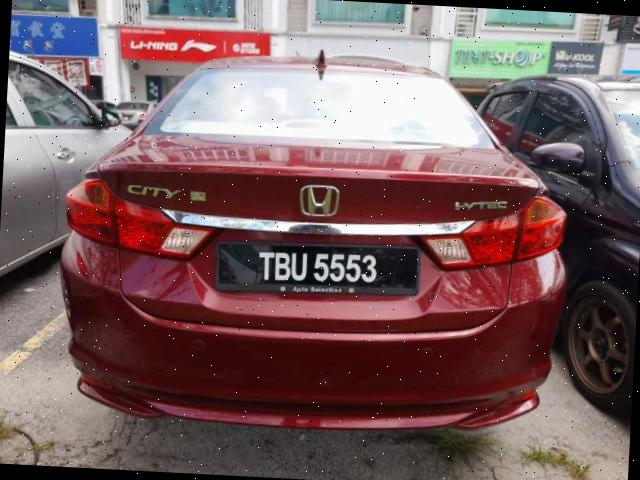License_Plate: (214, 234, 424, 302)
car: (52, 38, 582, 444)
